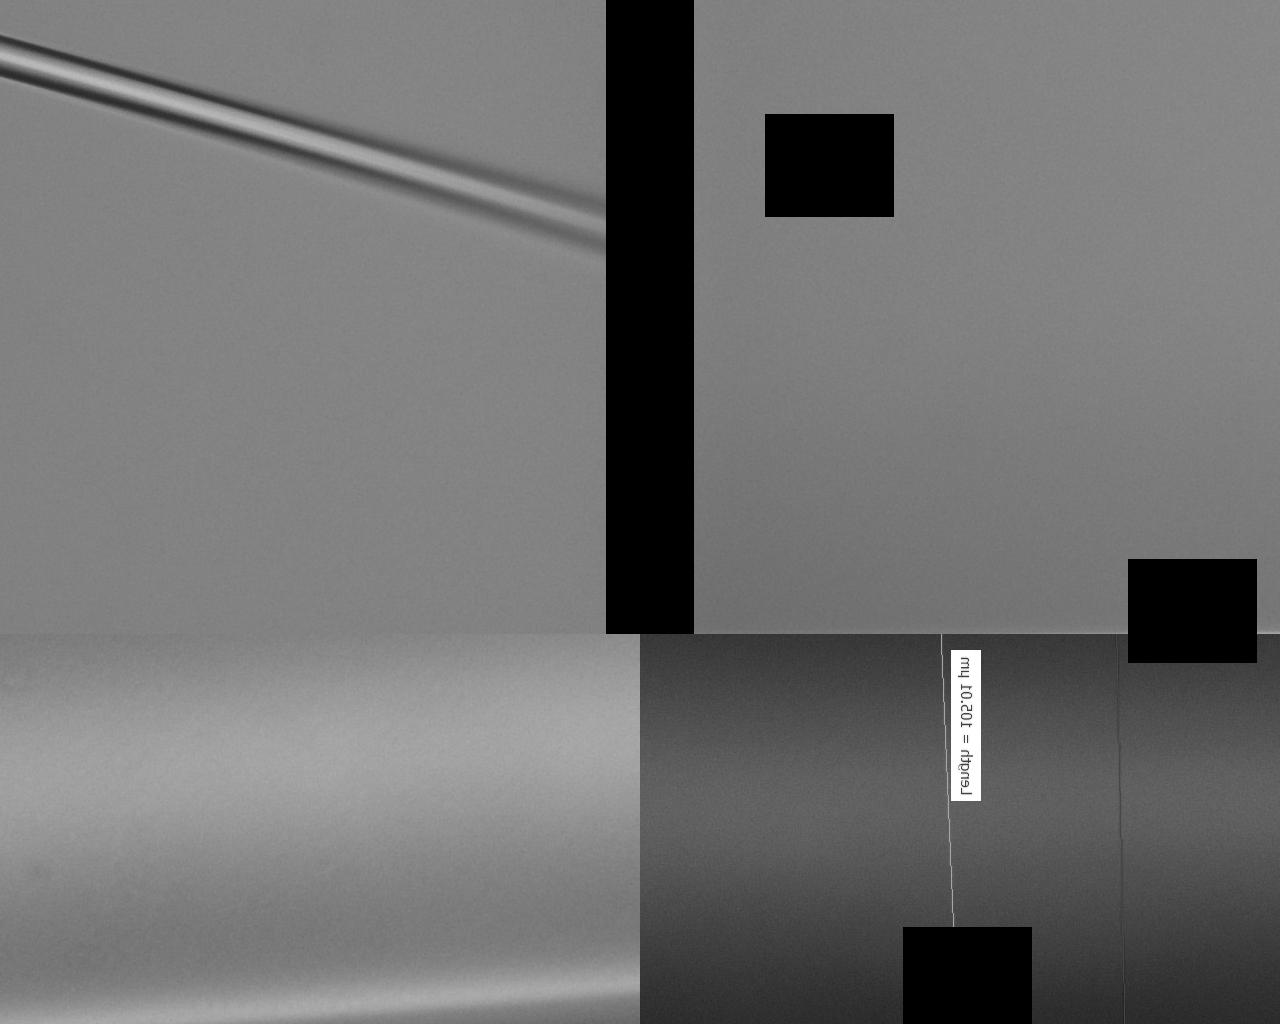fiber: (127, 553, 1151, 653)
